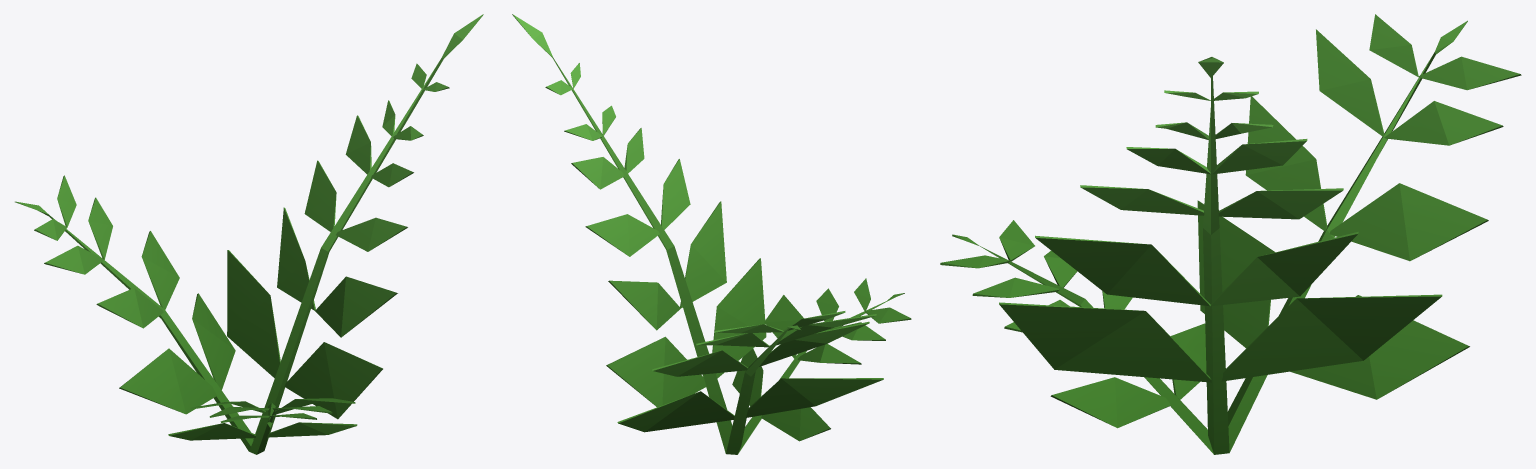
File: Plant_Ferny_01.fbx
3 views of the same model, side by side, from view 1: azimuth 30°, elevation 25°; view 2: azimuth 150°, elevation 25°; view 3: azimuth 270°, elevation 25° (orthographic). The views are drawn at different scales.
Visible parts, largest first — view 1: Plant_Ferny; view 2: Plant_Ferny; view 3: Plant_Ferny.
Boxes of the visible parts, box(x1,y1,x2,y2) form: Plant_Ferny: box(15, 14, 483, 454); Plant_Ferny: box(512, 14, 911, 454); Plant_Ferny: box(940, 14, 1521, 454).
Size of the model in its own units: 1.84 by 1.67 by 1.6.
